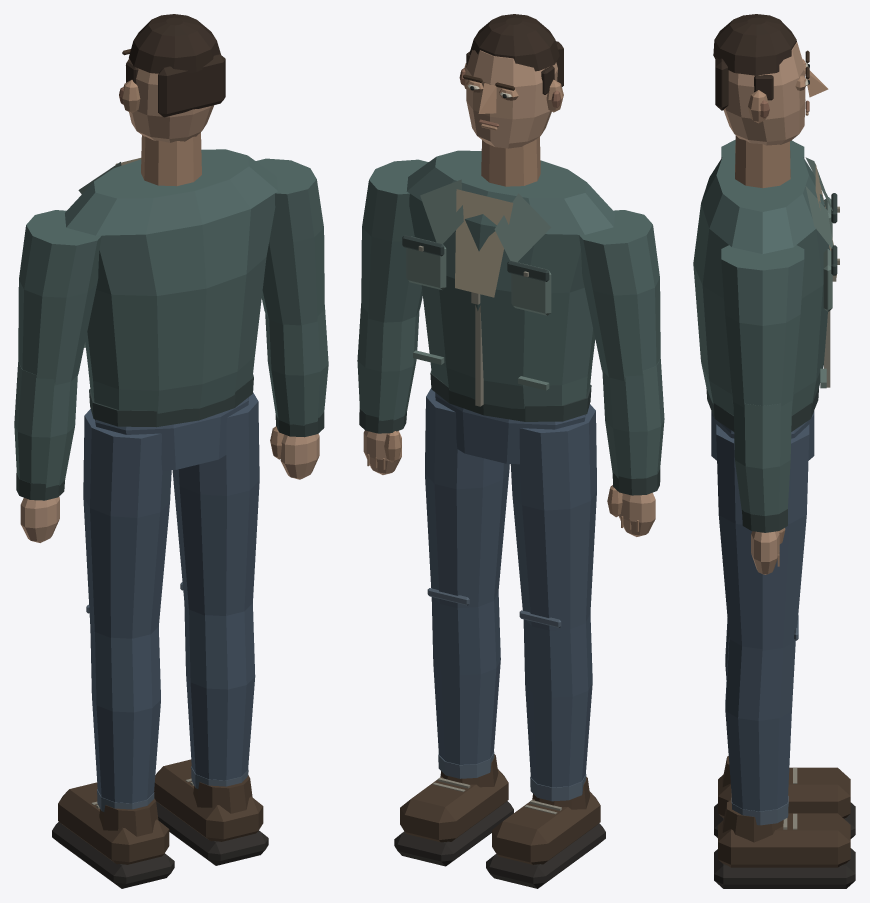
The model's file is traveller.glb.
3 renders of one model, left to right at view 1: azimuth 30°, elevation 25°; view 2: azimuth 150°, elevation 25°; view 3: azimuth 270°, elevation 25°, orthographic. The views are drawn at different scales.
Visible parts, largest first — view 1: Torso_Mesh, LeftThigh_Mesh, RightThigh_Mesh, Head_Mesh, LeftUpperArm_Mesh, LeftShin_Mesh, RightShin_Mesh, RightUpperArm_Mesh, LeftFoot_Mesh, RightFoot_Mesh, LeftForearm_Mesh, RightForearm_Mesh (+3 smaller); view 2: Torso_Mesh, LeftThigh_Mesh, Head_Mesh, RightThigh_Mesh, LeftUpperArm_Mesh, LeftShin_Mesh, RightShin_Mesh, LeftFoot_Mesh, RightFoot_Mesh, RightUpperArm_Mesh, LeftForearm_Mesh, RightForearm_Mesh (+3 smaller); view 3: Torso_Mesh, Head_Mesh, RightThigh_Mesh, RightUpperArm_Mesh, RightShin_Mesh, RightFoot_Mesh, RightForearm_Mesh, LeftFoot_Mesh, RightHand_Mesh, Hips_Mesh.
Part boxes in pixels (<box>): Torso_Mesh: <box>65,149,277,427</box>; LeftThigh_Mesh: <box>83,409,171,638</box>; RightThigh_Mesh: <box>172,392,259,615</box>; Head_Mesh: <box>119,14,225,186</box>; LeftUpperArm_Mesh: <box>18,210,101,385</box>; LeftShin_Mesh: <box>90,625,160,811</box>; RightShin_Mesh: <box>184,602,255,788</box>; RightUpperArm_Mesh: <box>256,158,324,325</box>; LeftFoot_Mesh: <box>52,782,174,888</box>; RightFoot_Mesh: <box>154,759,268,865</box>; LeftForearm_Mesh: <box>14,362,77,500</box>; RightForearm_Mesh: <box>265,305,328,437</box>; Torso_Mesh: <box>402,150,614,421</box>; LeftThigh_Mesh: <box>510,404,596,630</box>; Head_Mesh: <box>459,14,563,186</box>; RightThigh_Mesh: <box>425,388,509,607</box>; LeftUpperArm_Mesh: <box>579,210,660,381</box>; LeftShin_Mesh: <box>523,613,592,801</box>; RightShin_Mesh: <box>431,592,500,778</box>; LeftFoot_Mesh: <box>486,777,605,888</box>; RightFoot_Mesh: <box>394,754,513,866</box>; RightUpperArm_Mesh: <box>361,159,428,322</box>; LeftForearm_Mesh: <box>602,358,664,495</box>; RightForearm_Mesh: <box>357,303,419,433</box>; Torso_Mesh: <box>693,146,839,431</box>; Head_Mesh: <box>713,14,828,188</box>; RightThigh_Mesh: <box>716,424,809,650</box>; RightUpperArm_Mesh: <box>721,245,804,407</box>; RightShin_Mesh: <box>725,637,795,825</box>; RightFoot_Mesh: <box>714,800,855,888</box>; RightForearm_Mesh: <box>733,401,791,532</box>; LeftFoot_Mesh: <box>714,756,855,838</box>; RightHand_Mesh: <box>751,528,785,574</box>; Hips_Mesh: <box>711,411,814,460</box>.
Size of the model in its own units: 0.686 by 1.79 by 0.3155.
